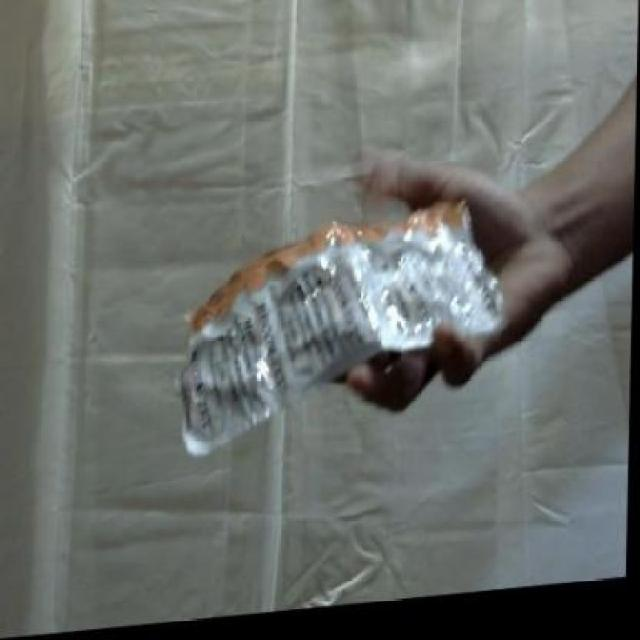Plastic: (172, 195, 504, 462)
